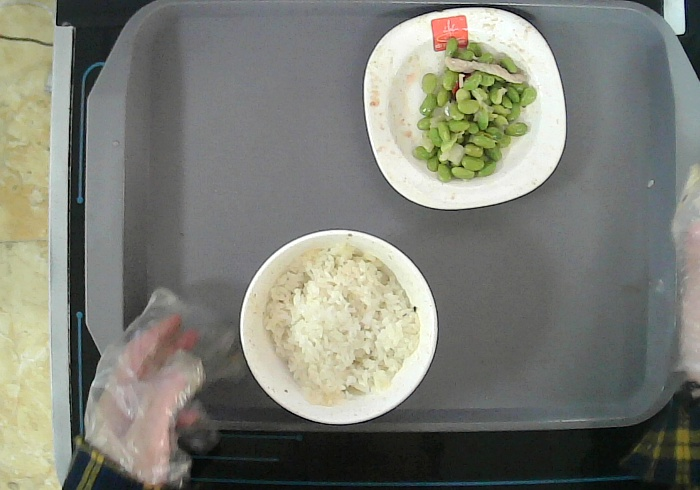SHKJ-Bai_Se_Si_Fang_Cai_Die: (363, 5, 568, 210)
SHKJ-Fan_Wan: (239, 229, 439, 426)
